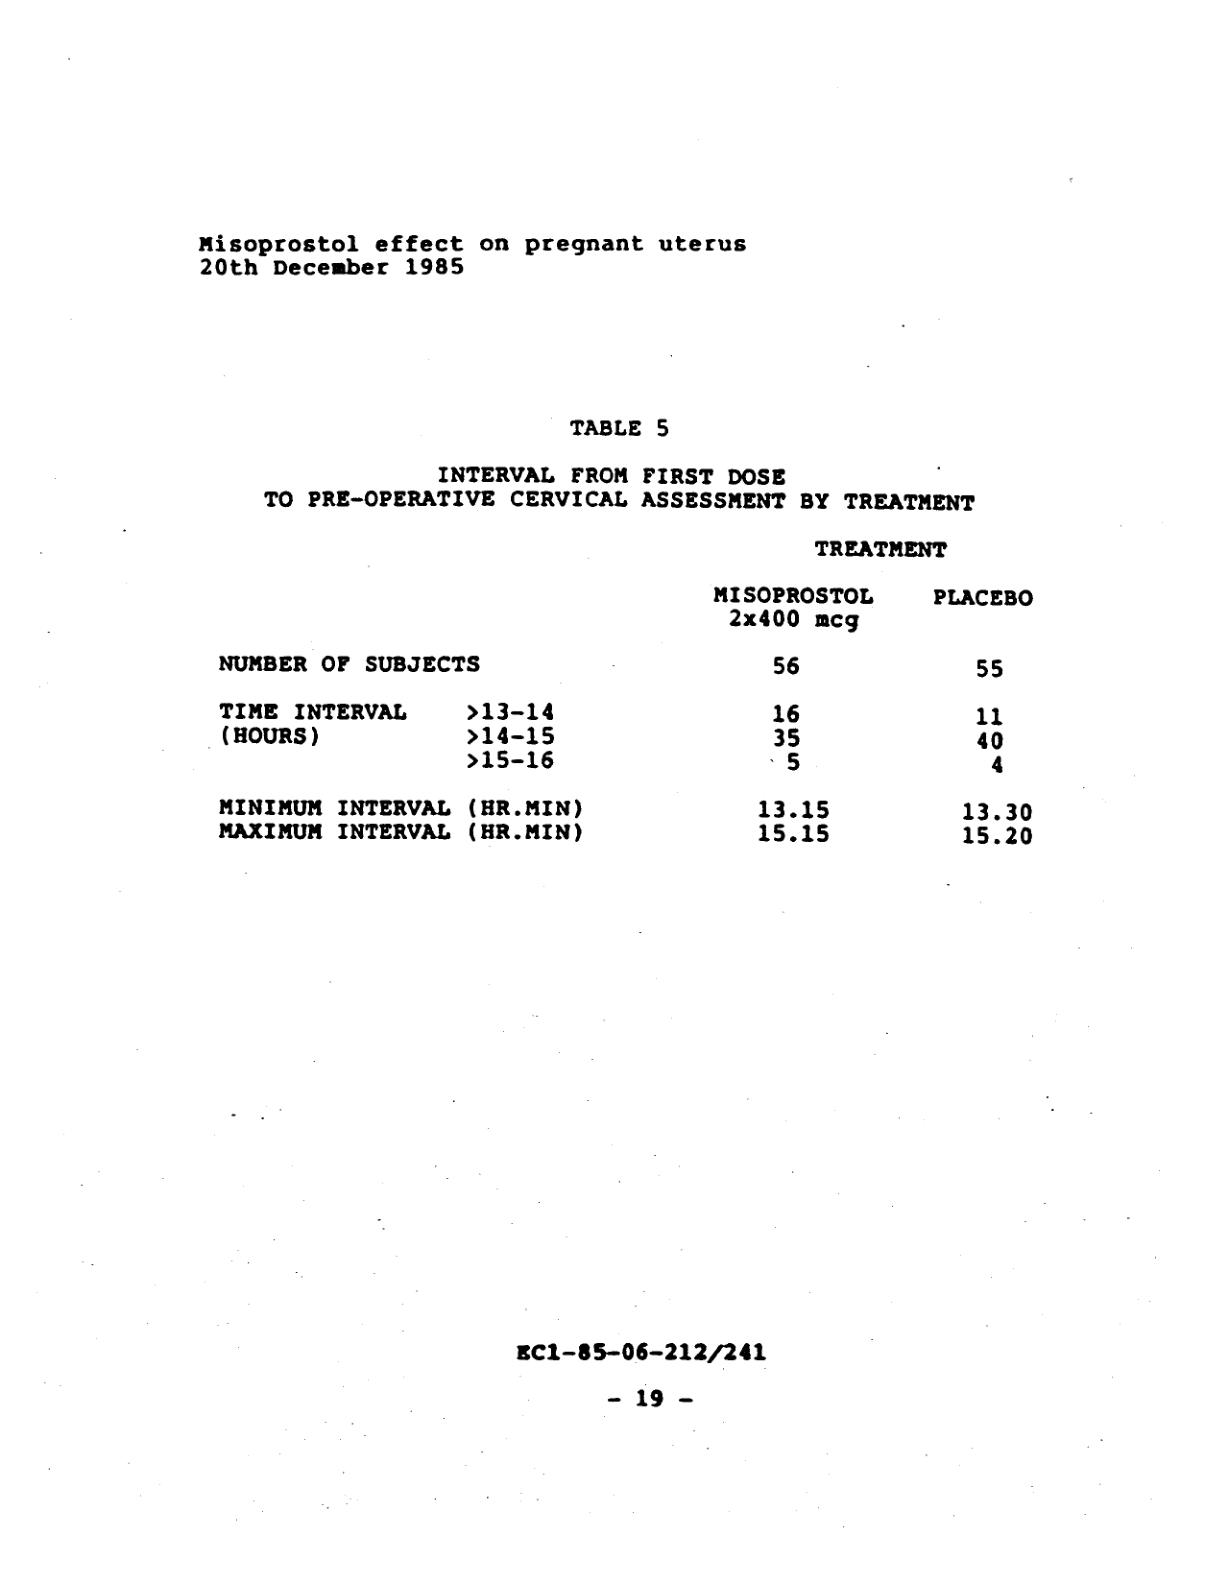nolines: (216, 582, 1034, 845)
